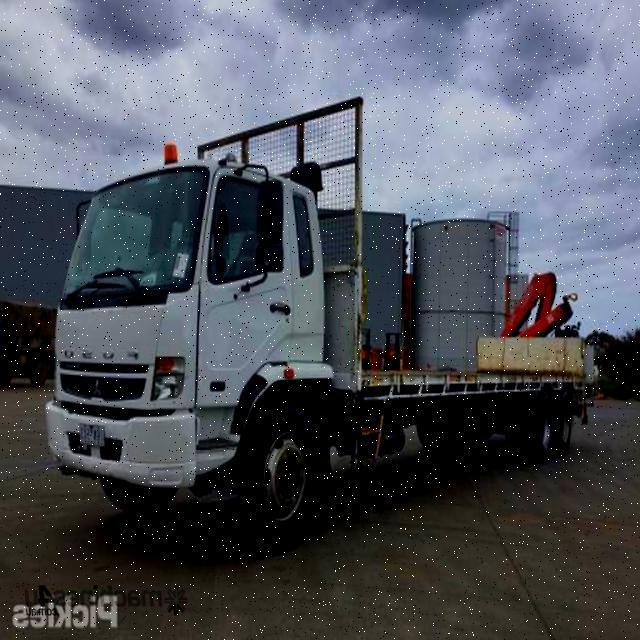truck: (46, 97, 600, 549)
